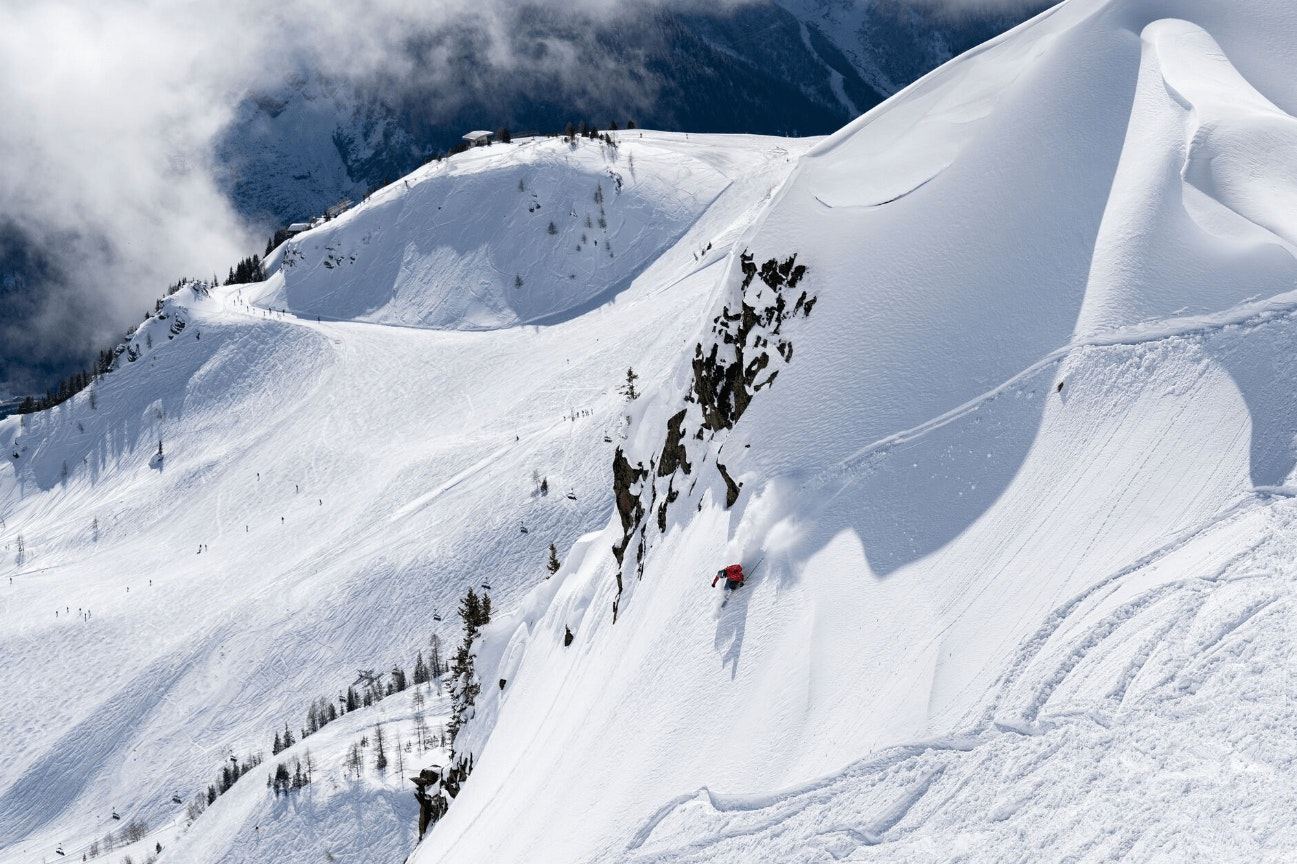skier: (709, 554, 770, 621)
